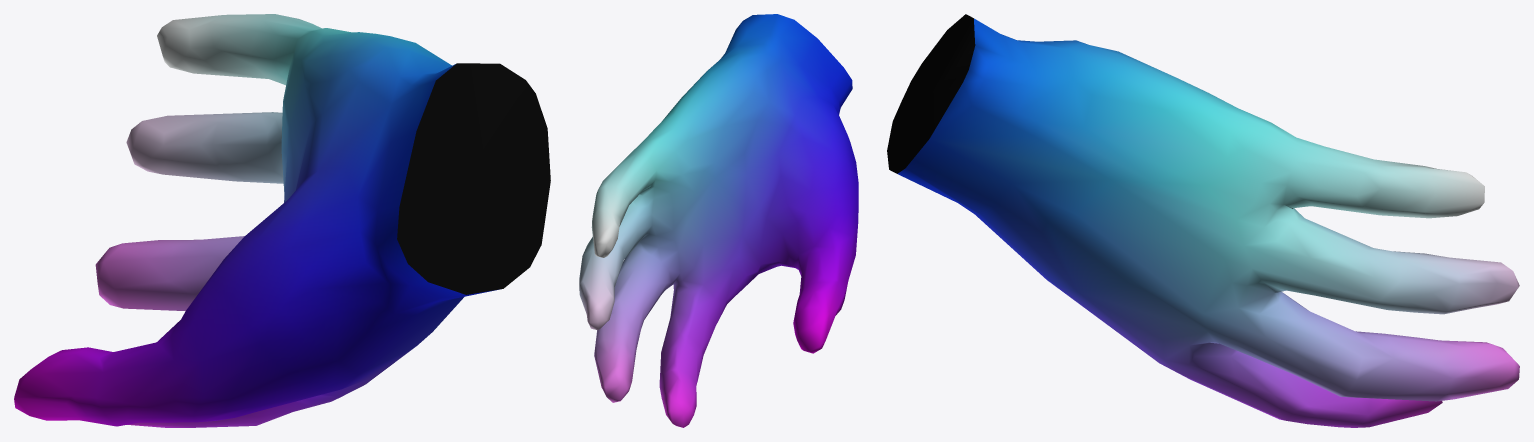
The model's file is LeftHand-Holding-Flashlight.fbx.
3 views of the same model, side by side, from view 1: azimuth 30°, elevation 25°; view 2: azimuth 150°, elevation 25°; view 3: azimuth 270°, elevation 25° (orthographic). The views are drawn at different scales.
Visible parts, largest first — view 1: hands:Lhand; view 2: hands:Lhand; view 3: hands:Lhand.
Part boxes in pixels (<box>): hands:Lhand: <box>14,14,550,427</box>; hands:Lhand: <box>579,14,858,427</box>; hands:Lhand: <box>887,14,1519,427</box>.
Bounding box in the file's own units: 10.39 × 13.91 × 18.36.
